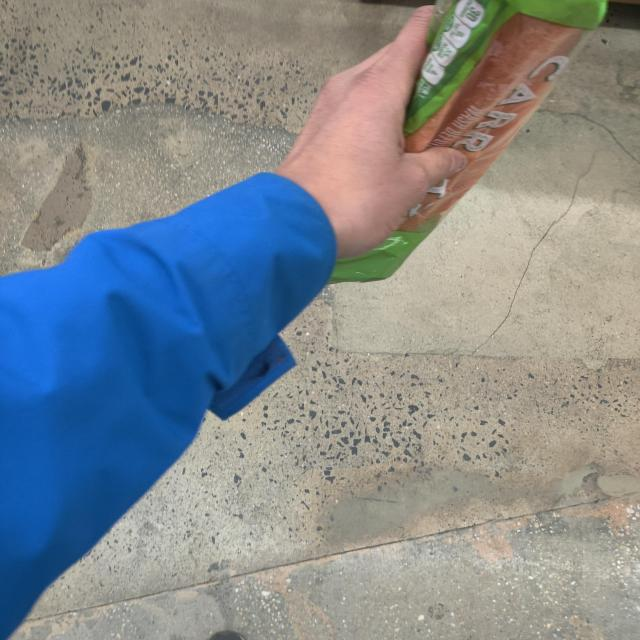Carrots: (308, 0, 608, 282)
